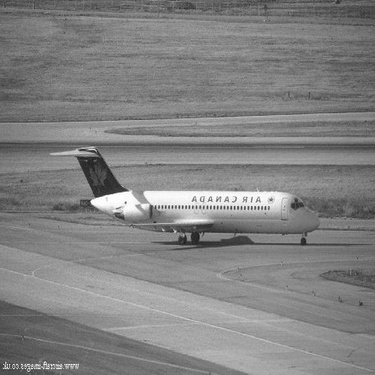airplane: (36, 131, 322, 251)
